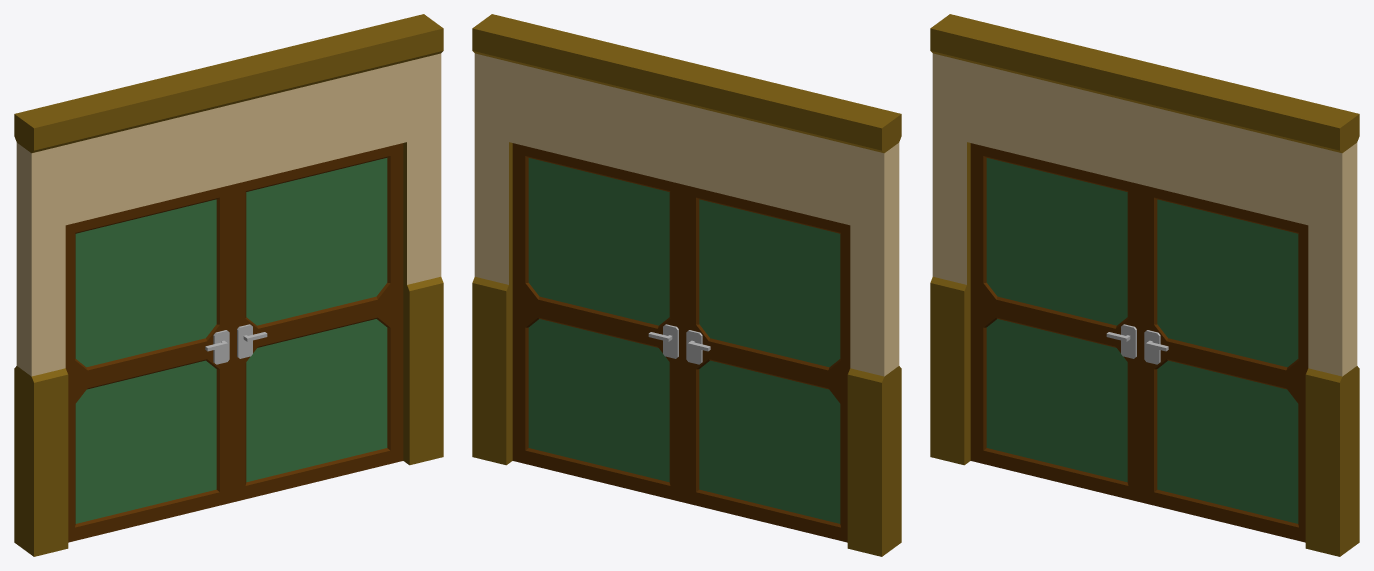
The model's file is Classic_WallDoubleDoors_01_snaps001_01.fbx.
3 renders of one model, left to right at view 1: azimuth 30°, elevation 25°; view 2: azimuth 150°, elevation 25°; view 3: azimuth 330°, elevation 25°, orthographic.
Visible parts, largest first — view 1: Classic_WallDoubleDoors_01_snaps001_01; view 2: Classic_WallDoubleDoors_01_snaps001_01; view 3: Classic_WallDoubleDoors_01_snaps001_01.
Boxes of the visible parts, x1,y1,x2,y2 form: Classic_WallDoubleDoors_01_snaps001_01: [14, 14, 443, 556]; Classic_WallDoubleDoors_01_snaps001_01: [472, 14, 901, 556]; Classic_WallDoubleDoors_01_snaps001_01: [930, 14, 1359, 556].
Bounding box in the file's own units: 300 × 300 × 25.
